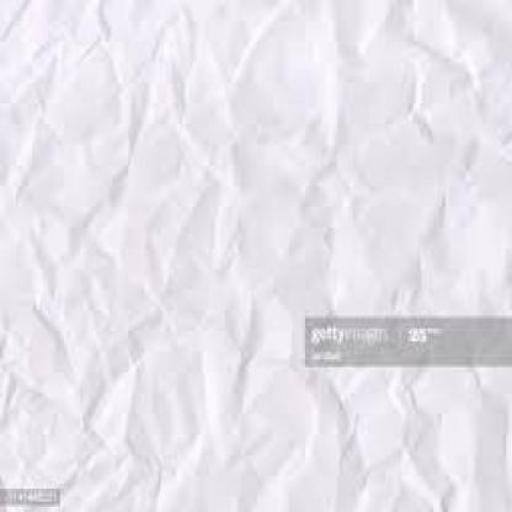paper: (0, 0, 511, 490)
